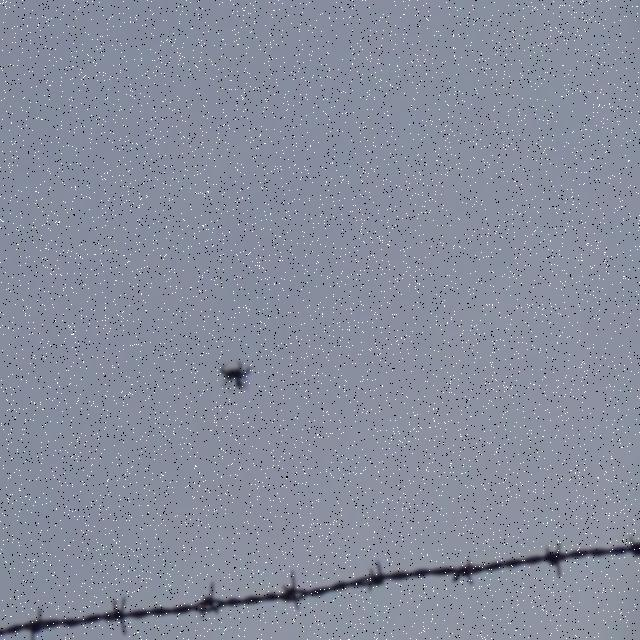UAV: (220, 360, 254, 394)
